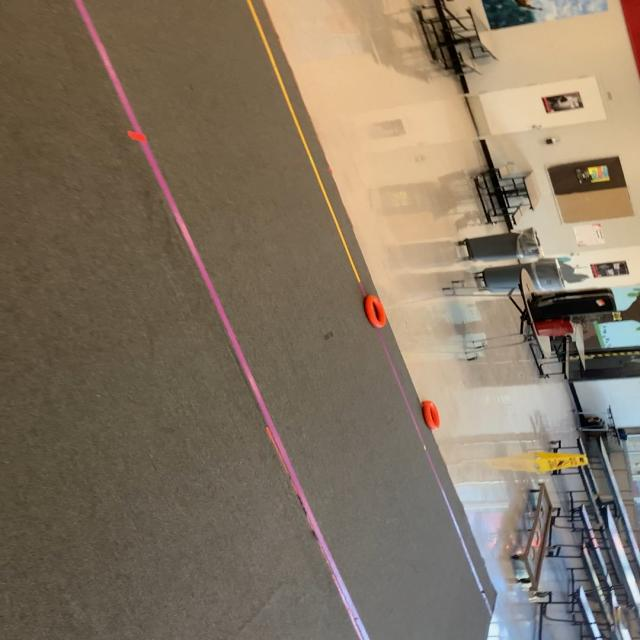notes: (362, 290, 388, 329)
